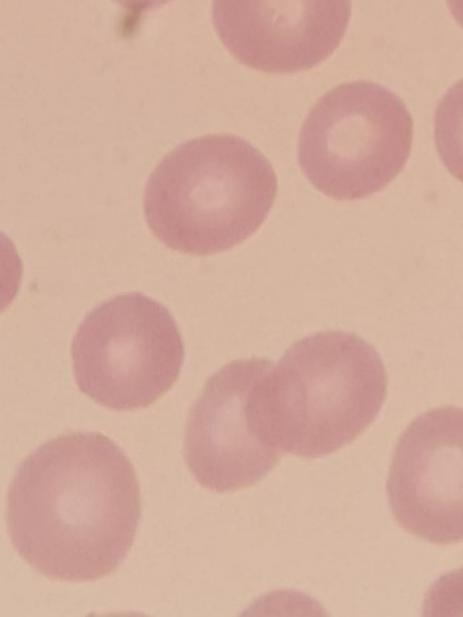Uninfected: (7, 432, 138, 581), (250, 329, 381, 459), (182, 358, 301, 492), (146, 136, 276, 258), (294, 80, 416, 198), (70, 291, 183, 409), (384, 408, 459, 544), (213, 0, 347, 72)
